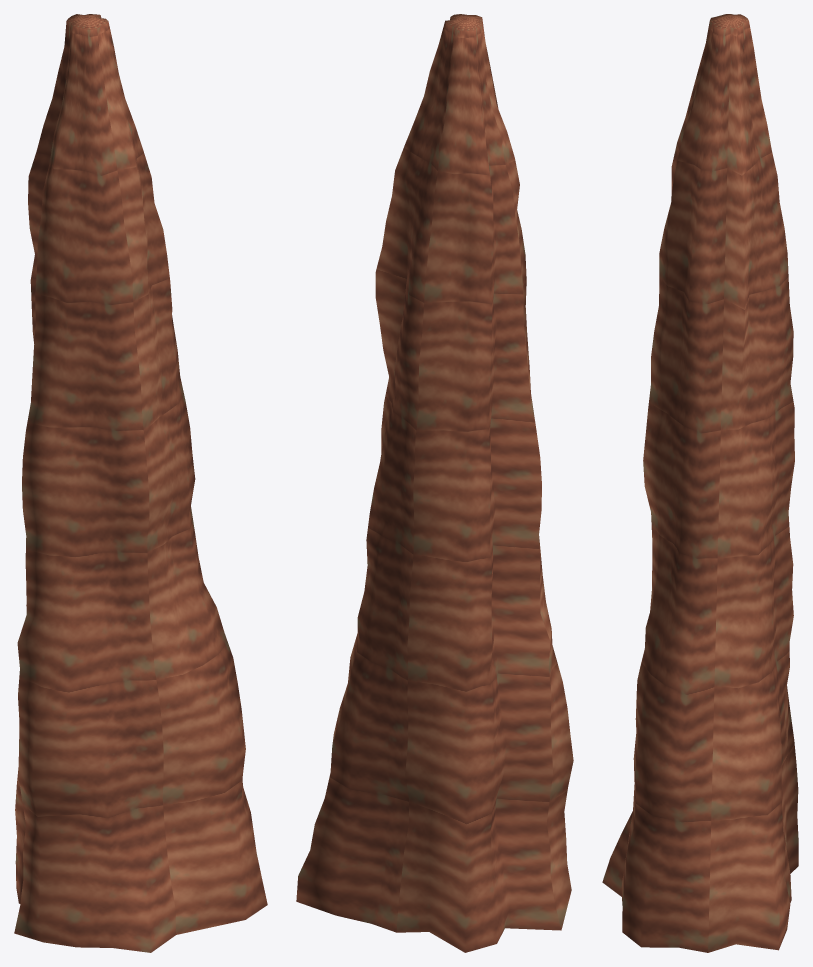
The model's file is Rock_Spire_2.gltf.
3 views of the same model, side by side, from view 1: azimuth 30°, elevation 25°; view 2: azimuth 150°, elevation 25°; view 3: azimuth 270°, elevation 25° (orthographic). The views are drawn at different scales.
Visible parts, largest first — view 1: Rock_Spire_2; view 2: Rock_Spire_2; view 3: Rock_Spire_2.
Part boxes in pixels (<box>): Rock_Spire_2: <box>14,14,267,952</box>; Rock_Spire_2: <box>296,14,573,952</box>; Rock_Spire_2: <box>602,14,798,952</box>.
Bounding box in the file's own units: 11.84 × 42.61 × 8.76.
Materials: 1 (1 with a texture image).
